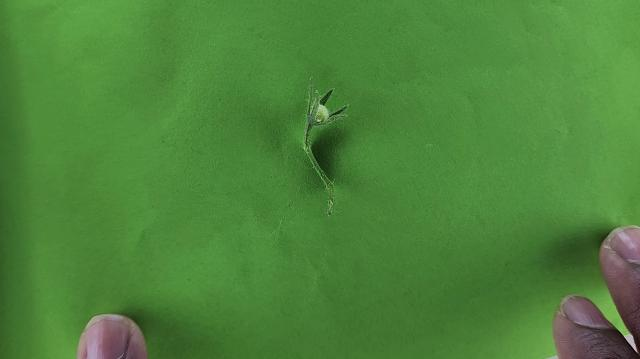Fruit Bud: (310, 88, 350, 127), (306, 84, 320, 124)
